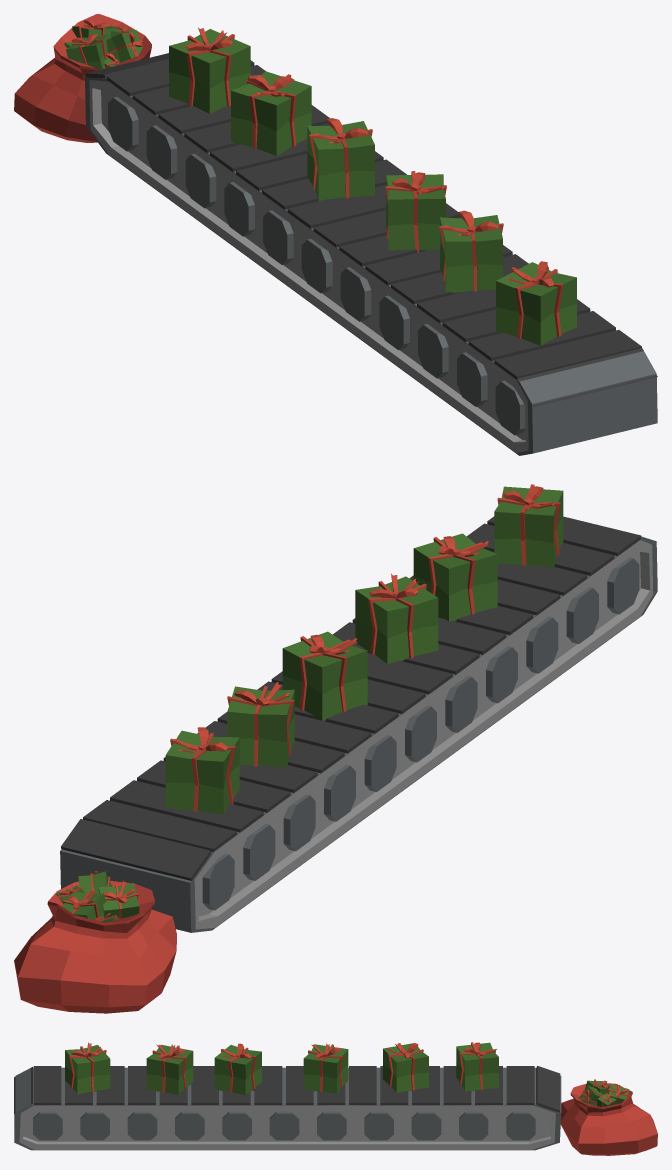
Rendered from konveier.kingutused.fbx.
The picture shows the model from 3 angles, top to bottom: view 1: azimuth 30°, elevation 25°; view 2: azimuth 150°, elevation 25°; view 3: azimuth 270°, elevation 25°; orthographic projection. The views are drawn at different scales.
Visible parts, largest first — view 1: Cube.007, Cube, Cube.002, Cube.003; view 2: Cube.007, Cube, Cube.002, Cube.001; view 3: Cube.007, Cube, Cube.003, Cube.001, Cube.002, Cube.006.
Boxes of the visible parts, x1,y1,x2,y2 form: Cube.007: (85,27,657,455); Cube: (14,14,151,142); Cube.002: (66,34,109,68); Cube.003: (106,30,142,62); Cube.007: (60,484,657,932); Cube: (14,880,176,1013); Cube.002: (98,880,139,918); Cube.001: (62,889,106,920); Cube.007: (14,1042,561,1150); Cube: (560,1083,657,1155); Cube.003: (579,1085,603,1105); Cube.001: (607,1084,629,1103); Cube.002: (584,1079,608,1094); Cube.006: (596,1093,616,1111).
Bounding box in the file's own units: 137 × 153 × 903.
